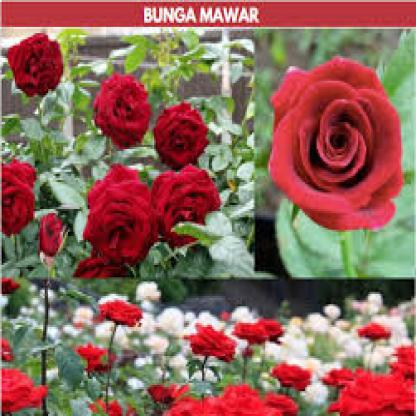Rose-Mawar: (78, 295, 416, 415), (81, 69, 230, 262), (265, 55, 407, 233), (1, 148, 59, 260), (3, 30, 67, 98)
